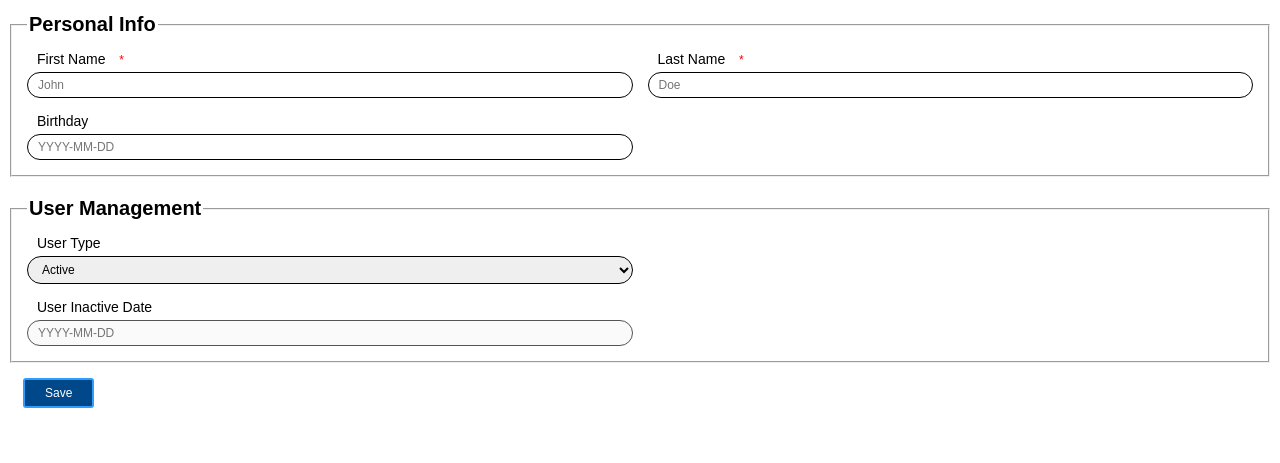
Scenario: test FormTaskComplete › test birthday format
The width and height of the screenshot is (1280, 463).
Type "ABCDEFGH" into the field labelled "Birthday".
click(330, 147); type("ABCDEFGH")  # box [27,134,632,160]
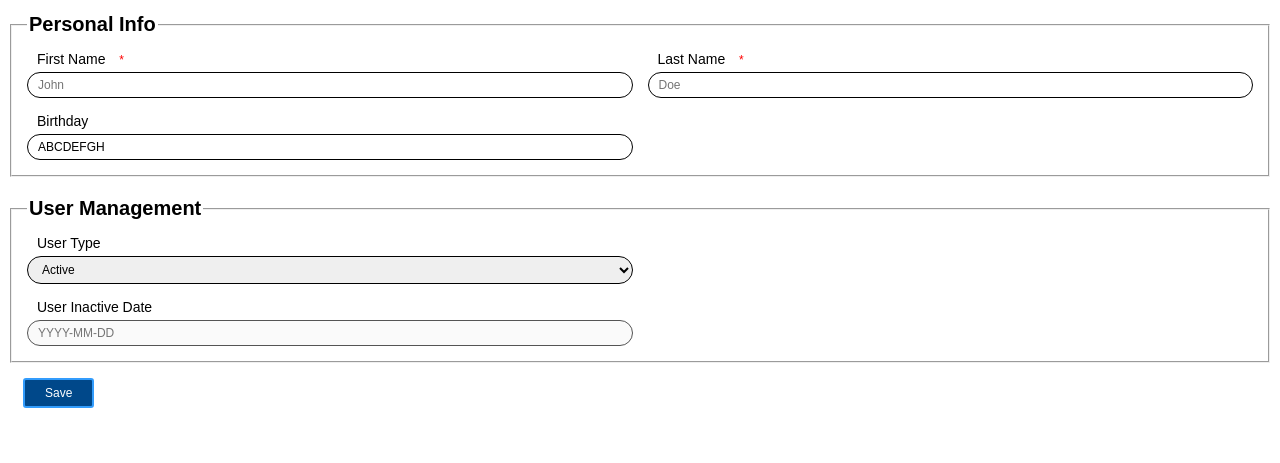
Click the button "Save".
click(59, 393)  # box [23,378,94,408]
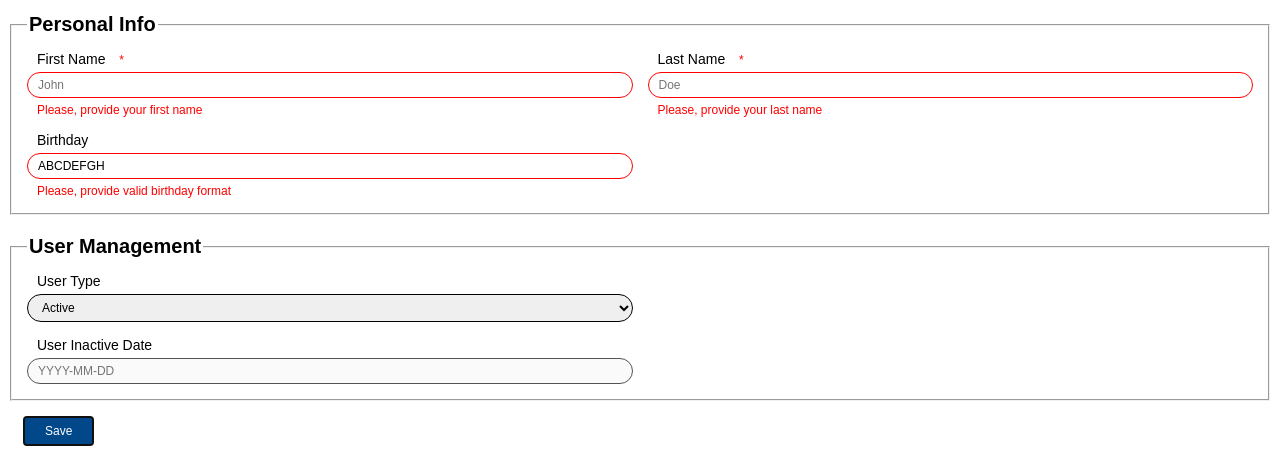
Result: the text "Please, provide valid birthday format" is shown at [37,184,231,198]
